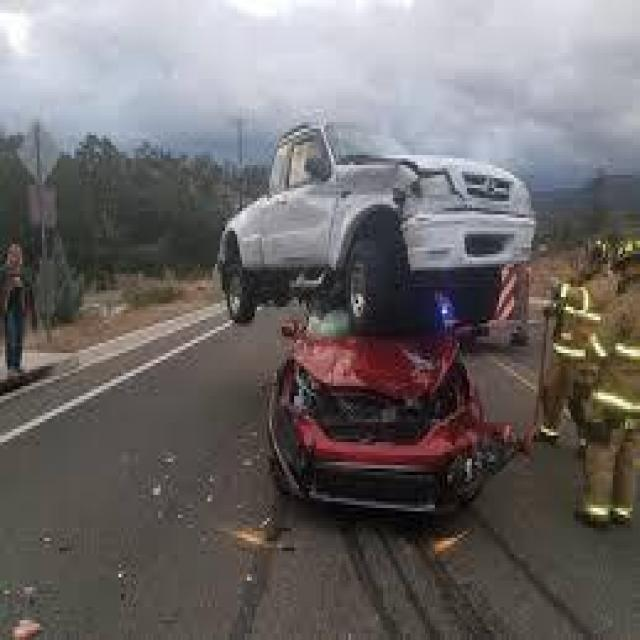accident: (214, 112, 535, 525)
